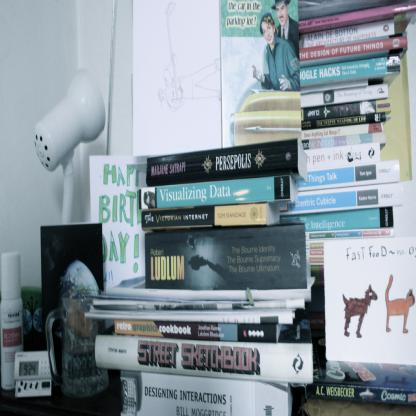book: (94, 0, 416, 416), (96, 316, 312, 380)
